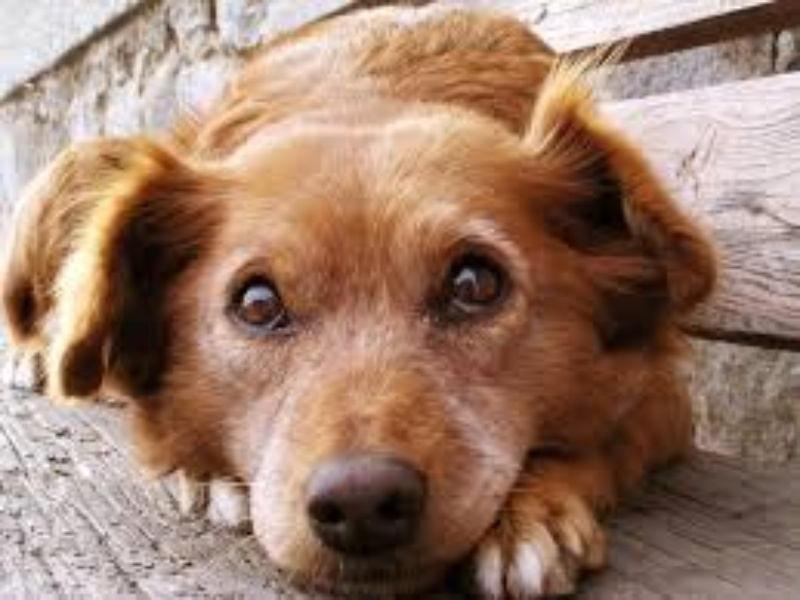dog: (11, 27, 764, 573)
